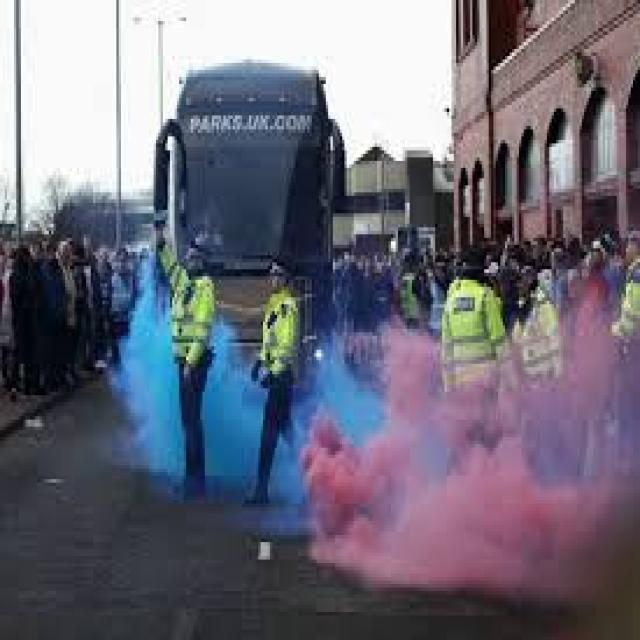Smoke: (108, 255, 348, 532)
